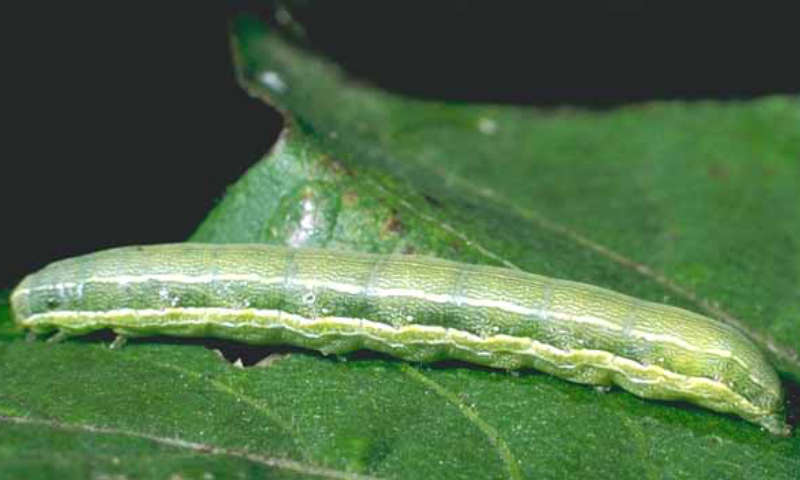Armyworm: (12, 237, 779, 455)
